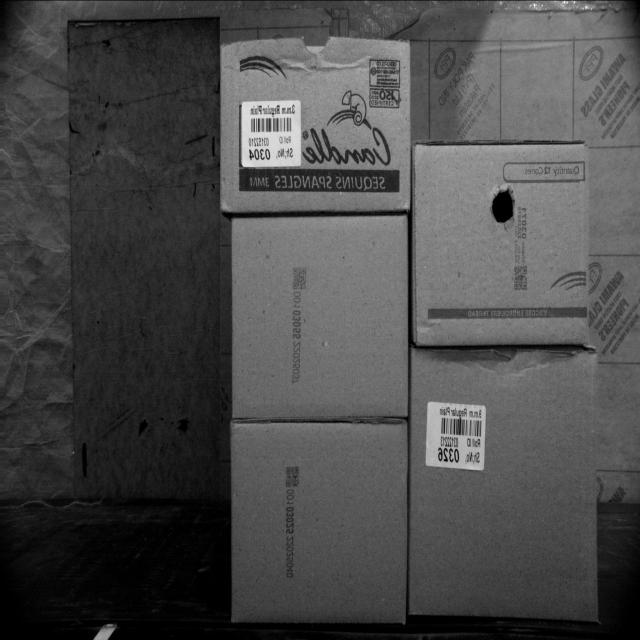cardboxes: (410, 351, 598, 624), (228, 423, 408, 630), (411, 141, 588, 349), (230, 218, 408, 418), (220, 36, 408, 214)
